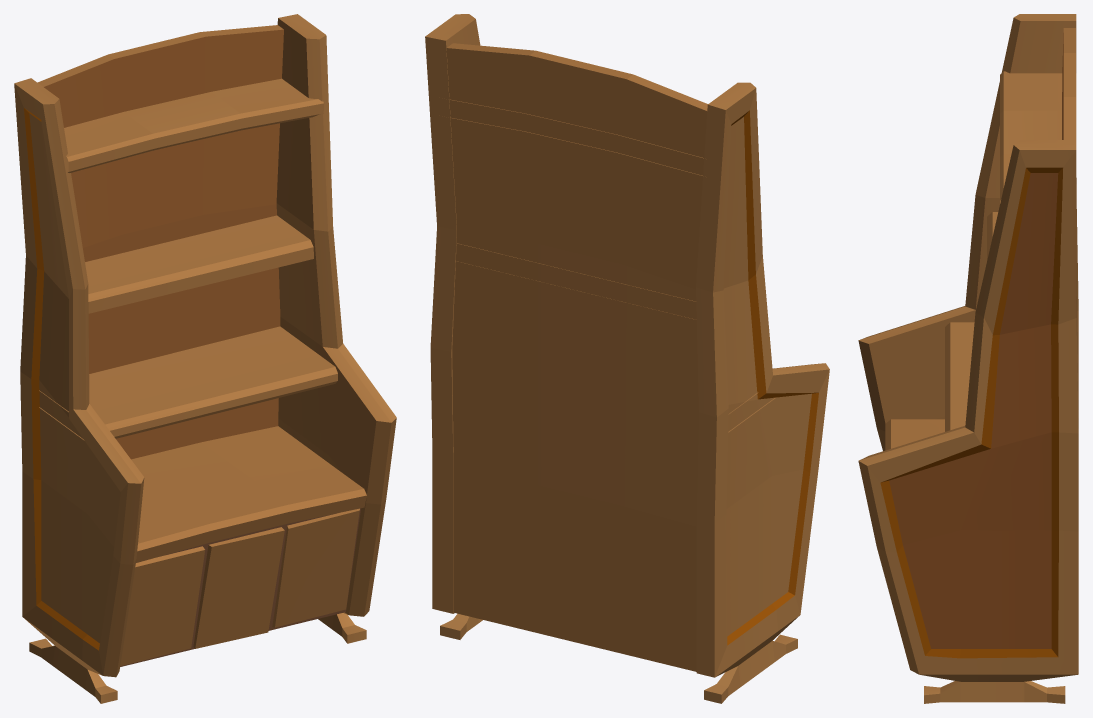
Rendered from Museum_Bookshelf.fbx.
3 views of the same model, side by side, from view 1: azimuth 30°, elevation 25°; view 2: azimuth 150°, elevation 25°; view 3: azimuth 270°, elevation 25° (orthographic). The views are drawn at different scales.
Parts seen in each view (by area): view 1: Cube; view 2: Cube; view 3: Cube.
Part boxes in pixels (x1,y1,x2,y2): Cube: (14,14,396,703); Cube: (425,14,829,703); Cube: (858,14,1078,703).
Size of the model in its own units: 1.48 by 2.85 by 1.01.
